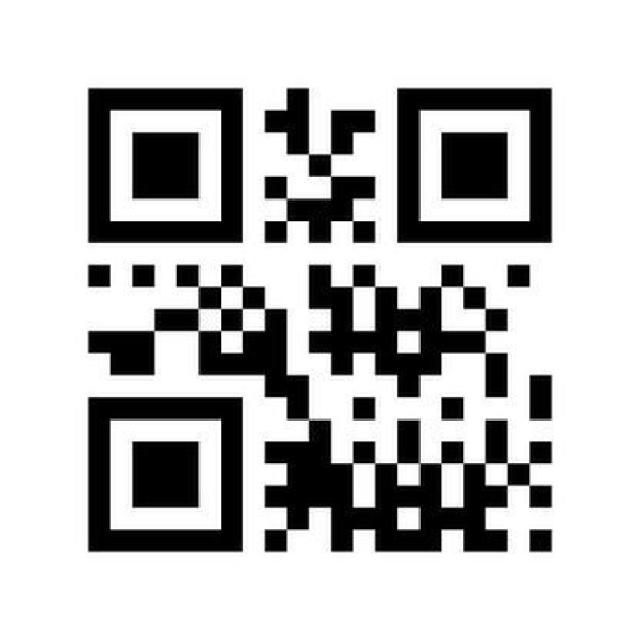QRCode: (78, 76, 566, 563)
